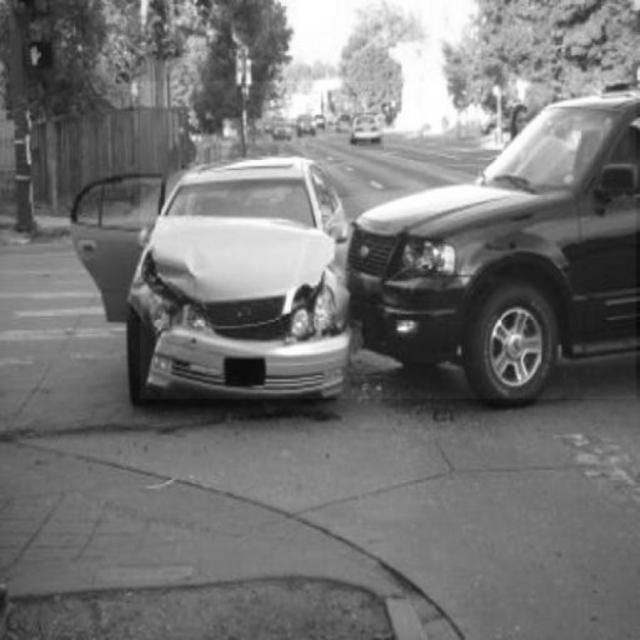accident: (141, 82, 637, 399)
vehicle: (352, 113, 384, 150)
